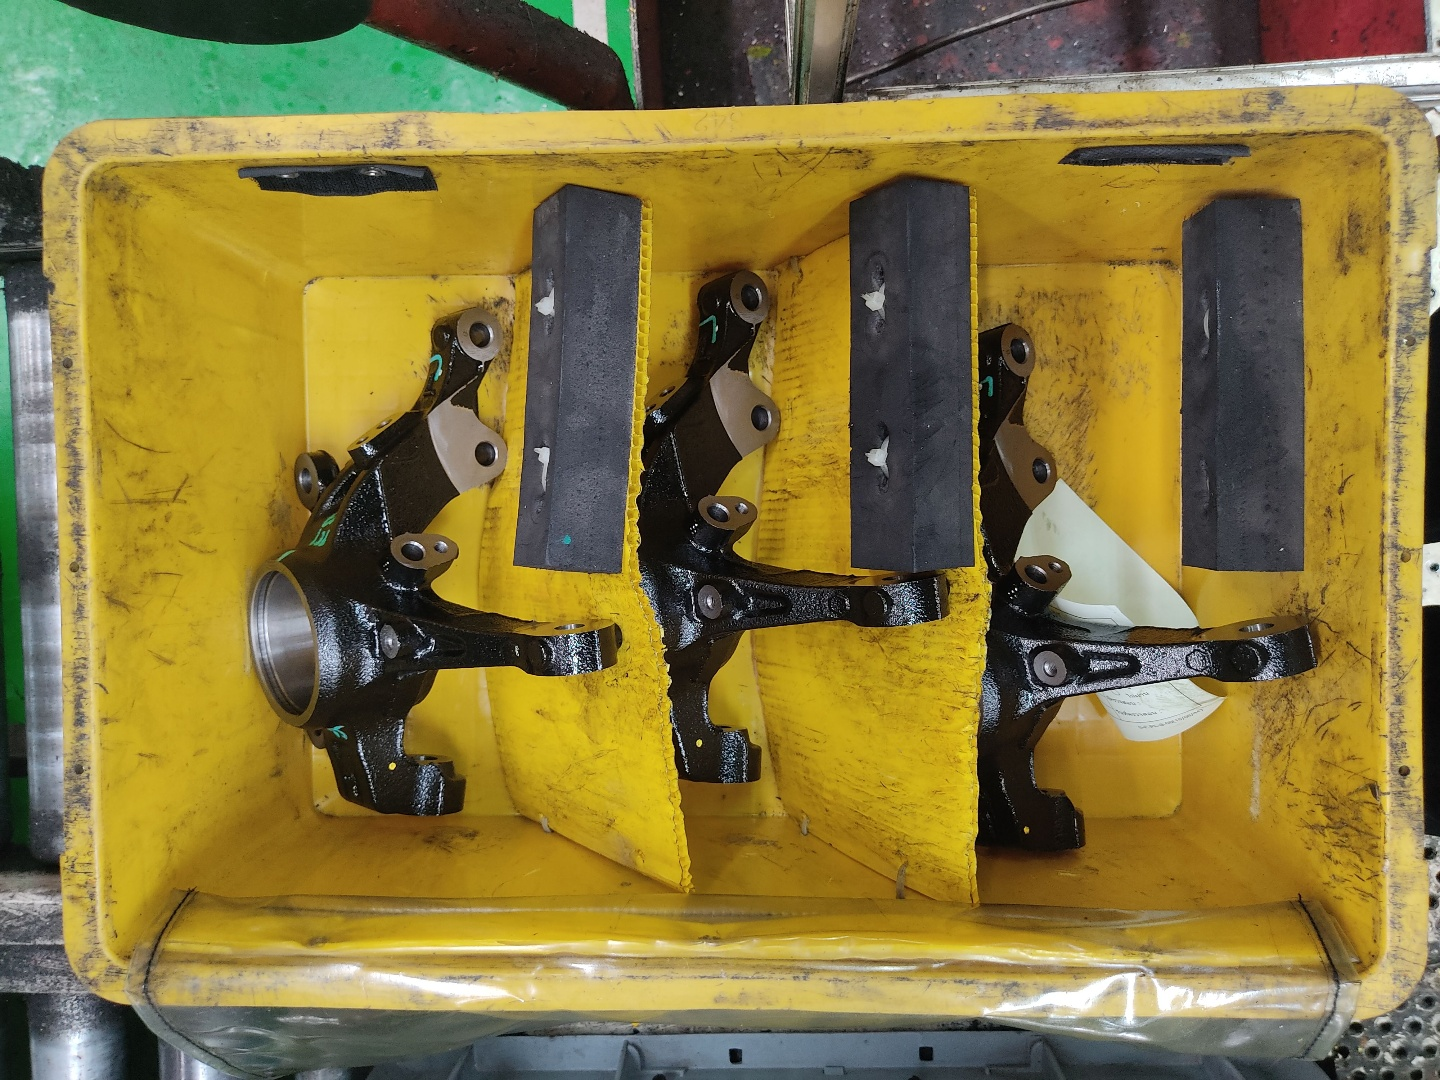abs-lh: (232, 298, 629, 822), (975, 307, 1322, 874), (625, 256, 969, 800)
